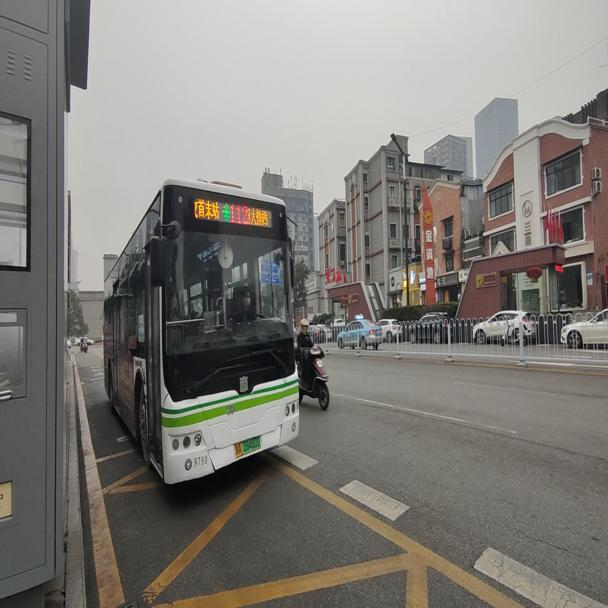bus: (101, 177, 300, 478)
screen: (228, 198, 248, 226)
